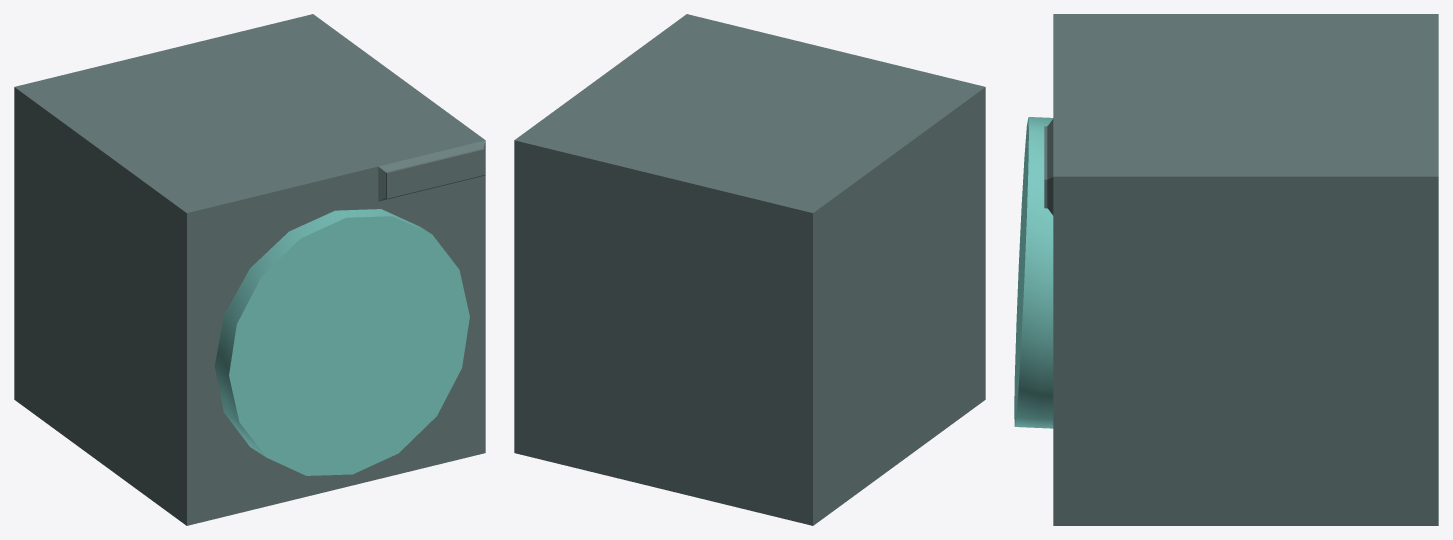
File: washing machine.fbx
3 renders of one model, left to right at view 1: azimuth 30°, elevation 25°; view 2: azimuth 150°, elevation 25°; view 3: azimuth 270°, elevation 25°, orthographic. The views are drawn at different scales.
Visible parts, largest first — view 1: Cube, Cylinder; view 2: Cube; view 3: Cube, Cylinder.
Part boxes in pixels (x1,y1,x2,y2): Cube: (14, 14, 485, 525); Cylinder: (214, 209, 469, 475); Cube: (514, 14, 985, 525); Cube: (1044, 14, 1438, 525); Cylinder: (1014, 117, 1053, 428).
Bounding box in the file's own units: 200 × 200 × 220.
